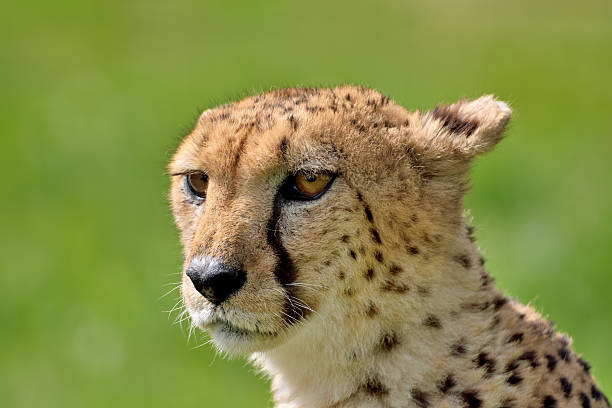cheetah: (145, 58, 534, 404)
